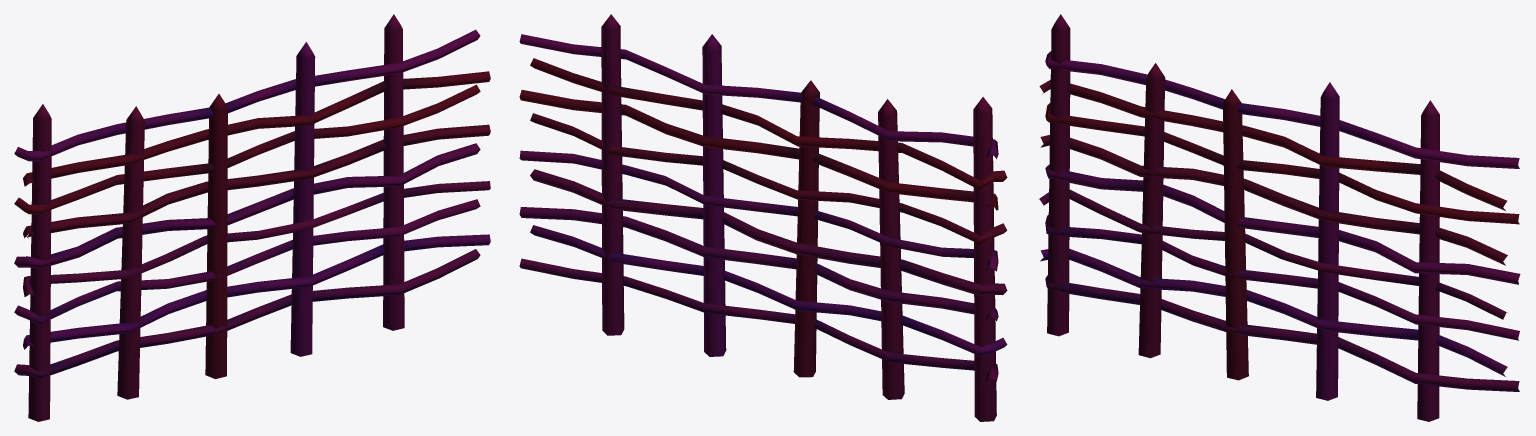
Rendered from veg_fence_wattle.glb.
The picture shows the model from 3 angles, left to right: view 1: azimuth 30°, elevation 25°; view 2: azimuth 150°, elevation 25°; view 3: azimuth 330°, elevation 25°; orthographic projection. The views are drawn at different scales.
Visible parts, largest first — view 1: veg_fence_wattle_LOD0; view 2: veg_fence_wattle_LOD0; view 3: veg_fence_wattle_LOD0.
Boxes of the visible parts, left/top/right/bottom form: veg_fence_wattle_LOD0: left=14, top=14, right=490, bottom=421; veg_fence_wattle_LOD0: left=519, top=14, right=1007, bottom=421; veg_fence_wattle_LOD0: left=1039, top=14, right=1520, bottom=421.
Size of what is drawn, in the model's own units: 1.03 by 0.6649 by 0.0743.
